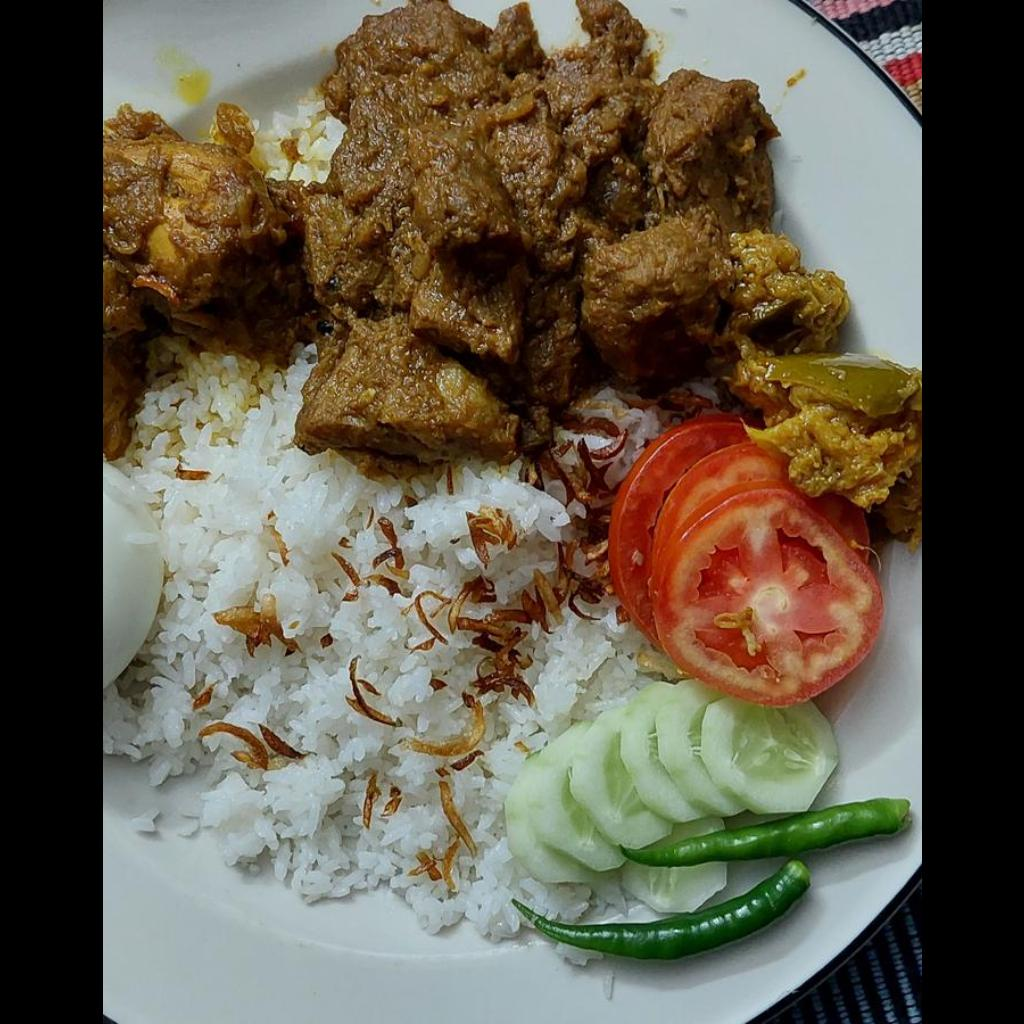beef: (102, 1, 916, 540)
cucumber: (504, 680, 837, 914)
egg-boiled: (102, 460, 162, 688)
rice: (102, 361, 633, 947)
tomato: (607, 415, 881, 704)
